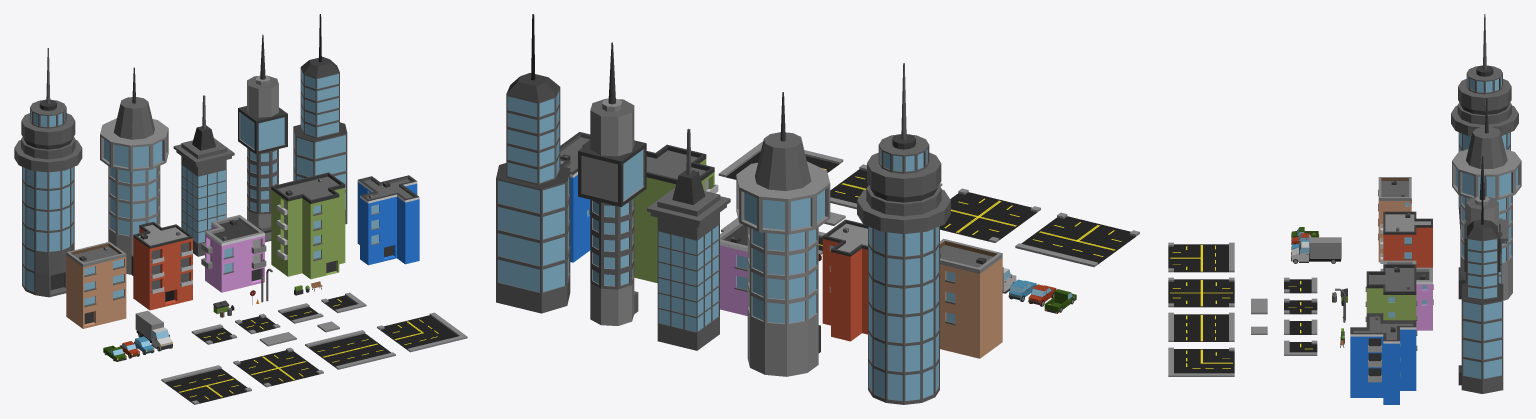
Rendered from LowPolyCityPack.fbx.
The picture shows the model from 3 angles, left to right: view 1: azimuth 30°, elevation 25°; view 2: azimuth 150°, elevation 25°; view 3: azimuth 270°, elevation 25°; orthographic projection. The views are drawn at different scales.
Visible parts, largest first — view 1: Skyscraper1, Skyscraper3, Apartment4, Skyscraper5, Skyscraper4, Apartment5, Skyscraper2, Apartment2, Apartment1, Apartment3, StreetILarge, StreetTLarge (+7 smaller); view 2: Skyscraper1, Skyscraper3, Skyscraper5, Skyscraper4, Skyscraper2, Apartment1, Apartment2, Apartment4, StreetTLarge, Street+Large, Apartment3, Apartment5 (+2 smaller); view 3: Skyscraper5, Skyscraper3, Apartment5, Skyscraper1, Apartment4, Apartment2, StreetTLarge, Street+Large, StreetILarge, StreetLLarge, Apartment1, Apartment3 (+7 smaller).
Part boxes in pixels (x1,y1,x2,y2): Skyscraper1: [14, 48, 82, 297]; Skyscraper3: [100, 67, 168, 275]; Apartment4: [271, 172, 345, 279]; Skyscraper5: [293, 14, 347, 224]; Skyscraper4: [238, 34, 287, 242]; Apartment5: [357, 175, 419, 265]; Skyscraper2: [173, 95, 234, 256]; Apartment2: [133, 221, 192, 310]; Apartment1: [66, 241, 126, 328]; Apartment3: [201, 215, 266, 292]; StreetILarge: [305, 330, 395, 369]; StreetTLarge: [161, 365, 251, 404]; Skyscraper1: [857, 63, 950, 404]; Skyscraper3: [736, 92, 830, 376]; Skyscraper5: [496, 14, 570, 313]; Skyscraper4: [578, 42, 646, 325]; Skyscraper2: [647, 128, 730, 350]; Apartment1: [940, 238, 1002, 358]; Apartment2: [822, 219, 867, 341]; Apartment4: [634, 144, 718, 283]; StreetTLarge: [1015, 212, 1139, 267]; Street+Large: [940, 188, 1040, 242]; Apartment3: [720, 221, 747, 315]; Apartment5: [560, 132, 590, 262]; Skyscraper5: [1458, 176, 1503, 393]; Skyscraper3: [1452, 97, 1521, 300]; Apartment5: [1350, 313, 1416, 404]; Skyscraper1: [1451, 14, 1518, 228]; Apartment4: [1365, 264, 1417, 350]; Apartment2: [1380, 211, 1432, 271]; StreetTLarge: [1168, 242, 1234, 272]; Street+Large: [1168, 277, 1234, 307]; StreetILarge: [1168, 312, 1234, 341]; StreetLLarge: [1168, 347, 1234, 376]; Apartment1: [1378, 177, 1411, 262]; Apartment3: [1383, 260, 1433, 330].
Bounding box in the file's own units: 2420 × 1578 × 2136.
